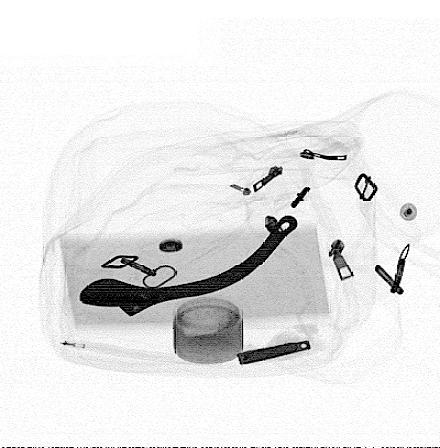Wrench: (76, 214, 298, 308)
